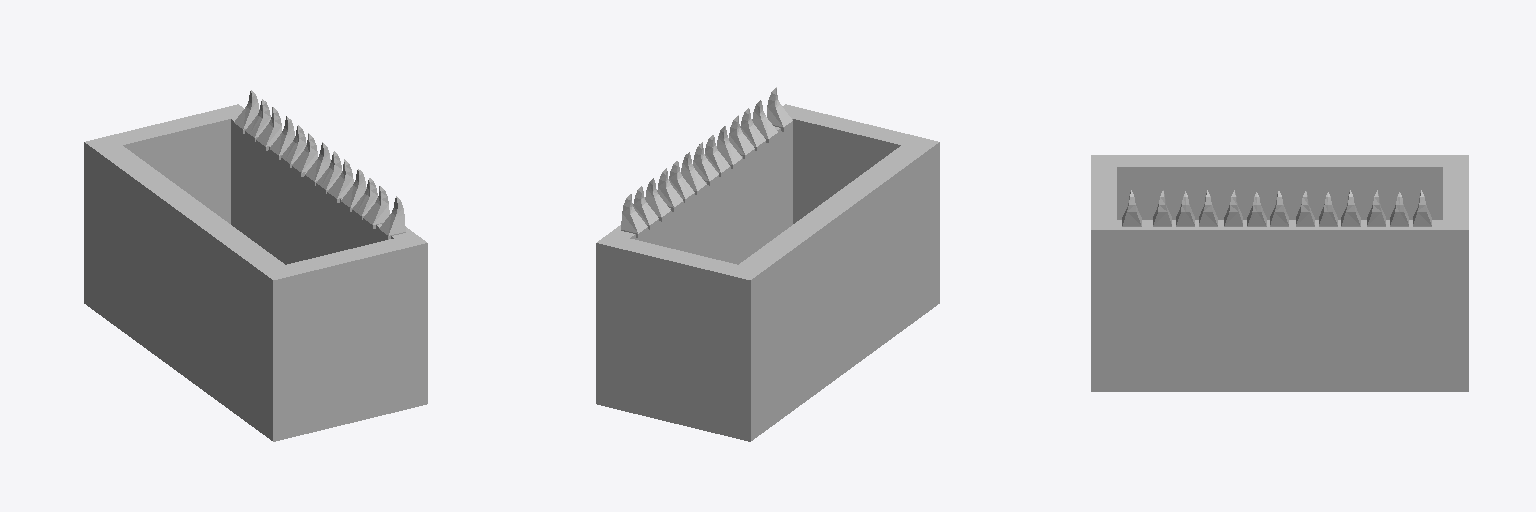
The model's file is Mimic_Bottom.obj.
3 renders of one model, left to right at view 1: azimuth 30°, elevation 25°; view 2: azimuth 150°, elevation 25°; view 3: azimuth 270°, elevation 25°, orthographic.
Visible parts, largest first — view 1: Cube, Cube.001, Cube.003; view 2: Cube, Cube.001, Cube.003, Cube.002; view 3: Cube, Cube.001.
Boxes of the visible parts, x1,y1,x2,y2 form: Cube: [84, 104, 427, 441]; Cube.001: [234, 90, 389, 228]; Cube.003: [379, 196, 405, 239]; Cube: [596, 104, 939, 441]; Cube.001: [621, 100, 777, 237]; Cube.003: [767, 87, 792, 131]; Cube.002: [729, 115, 754, 159]; Cube: [1091, 155, 1468, 391]; Cube.001: [1153, 190, 1431, 226].
Size of the model in its own units: 1.67 by 2.03 by 3.55.